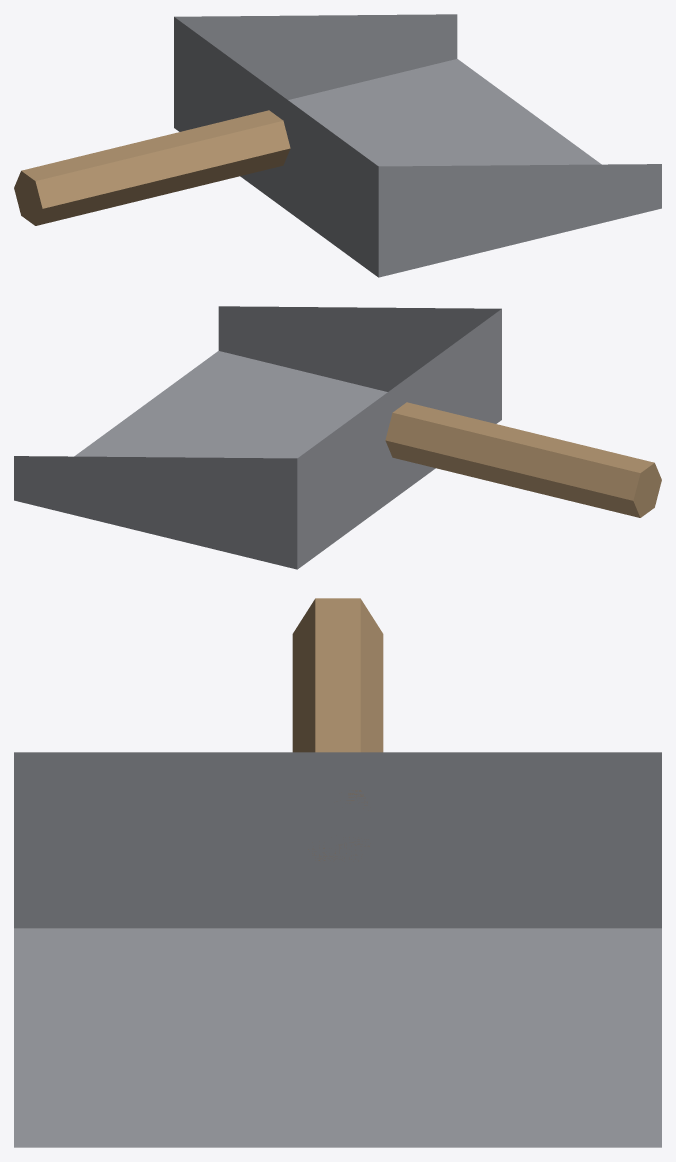
The model's file is prop-sand-scoop-mm1.fbx.
3 renders of one model, top to bottom at view 1: azimuth 30°, elevation 25°; view 2: azimuth 150°, elevation 25°; view 3: azimuth 270°, elevation 25°, orthographic. The views are drawn at different scales.
Parts seen in each view (by area): view 1: prop-sand-scoop-mm1; view 2: prop-sand-scoop-mm1; view 3: prop-sand-scoop-mm1.
Part boxes in pixels (bbox=[...]): prop-sand-scoop-mm1: bbox=[14, 14, 661, 277]; prop-sand-scoop-mm1: bbox=[14, 306, 661, 569]; prop-sand-scoop-mm1: bbox=[14, 598, 661, 1147].
Bounding box in the file's own units: 30 × 6 × 20.
